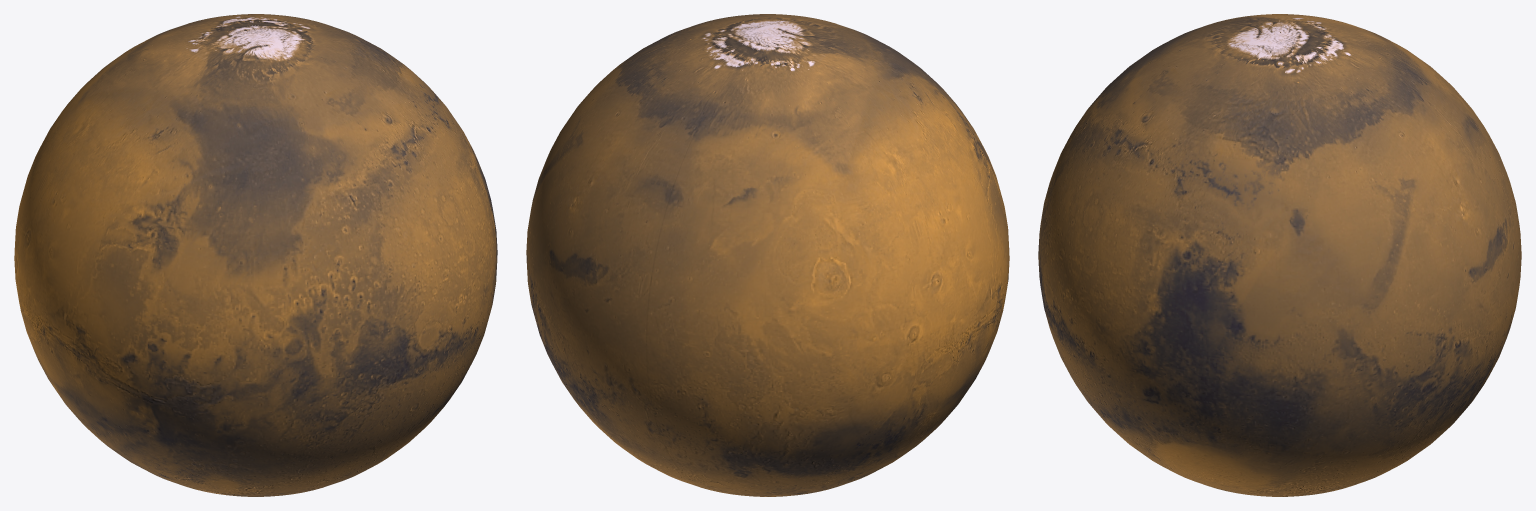
Rendered from mars.obj.
3 renders of one model, left to right at view 1: azimuth 30°, elevation 25°; view 2: azimuth 150°, elevation 25°; view 3: azimuth 270°, elevation 25°, orthographic.
Visible parts, largest first — view 1: Sphere002; view 2: Sphere002; view 3: Sphere002.
Part boxes in pixels (x1=…): Sphere002: x1=14, y1=14, x2=497, y2=496; Sphere002: x1=526, y1=14, x2=1009, y2=496; Sphere002: x1=1038, y1=14, x2=1521, y2=496.
Bounding box in the file's own units: 702 × 702 × 702.
Materials: 2 (2 with a texture image).
